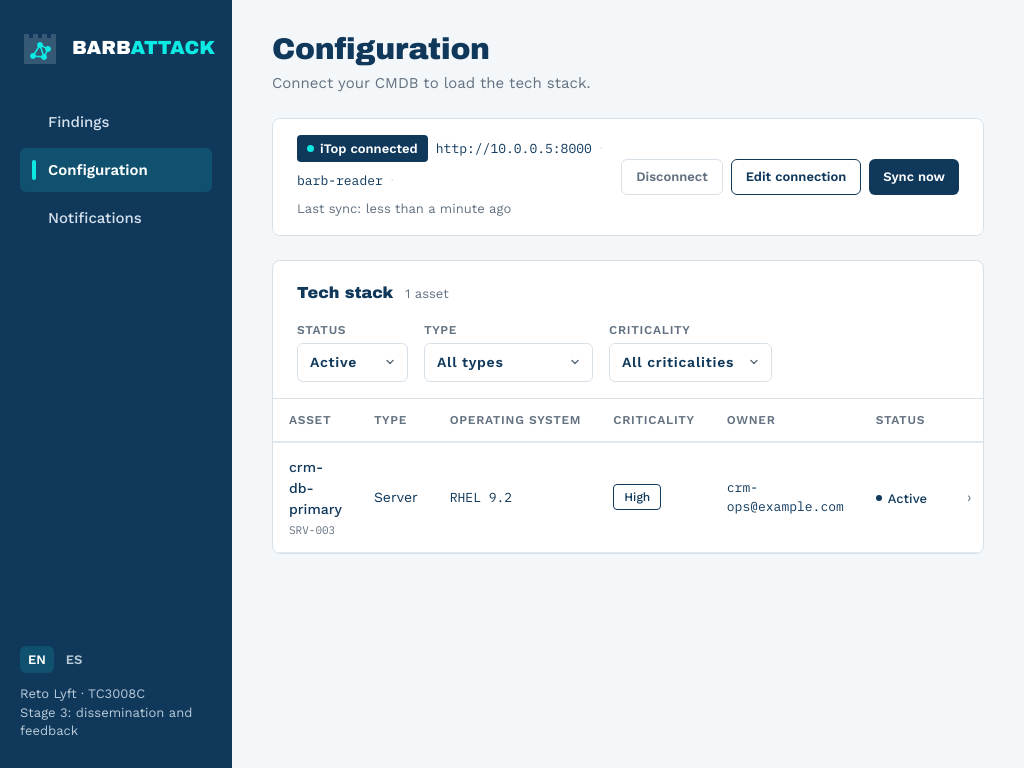
Test: Tech stack › a slow response for filters already replaced is never shown
Expected: the text "iTop connected" is shown, [297,134,428,162]
Expected: the row "crm-db-primary" is shown, [273,442,983,552]
Select "Server" in the dropdown labelled "Type" at (508, 362), box [424,342,593,382]
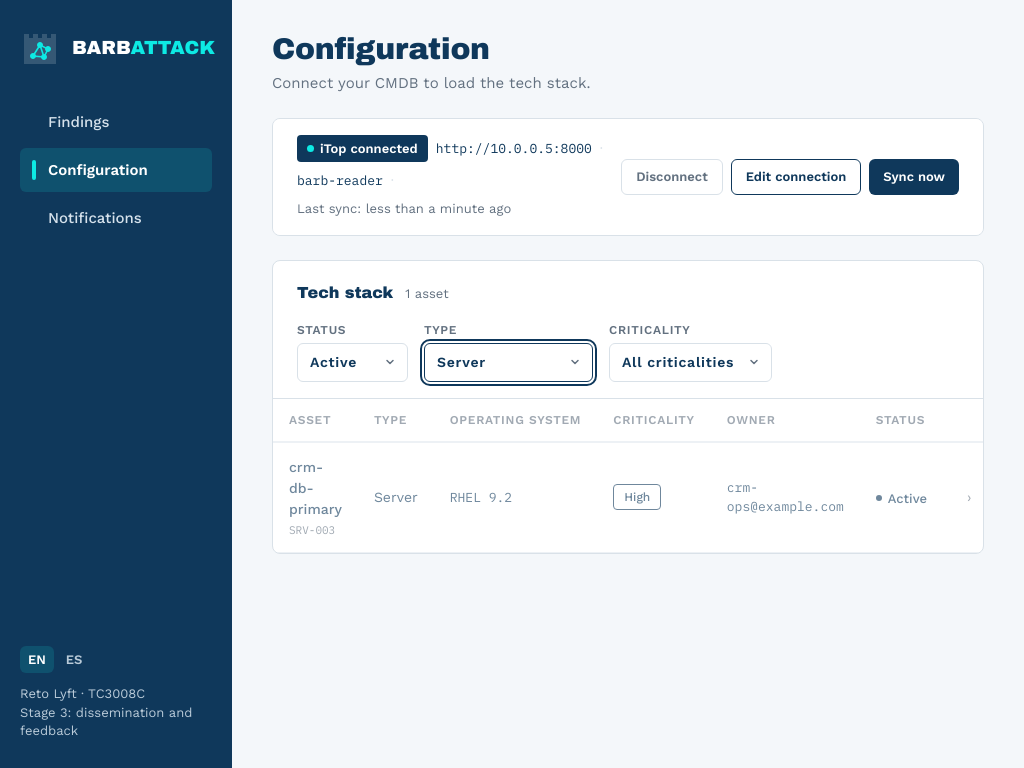
Select "Virtual Machine" in the dropdown labelled "Type" at (508, 362), box [424,342,593,382]
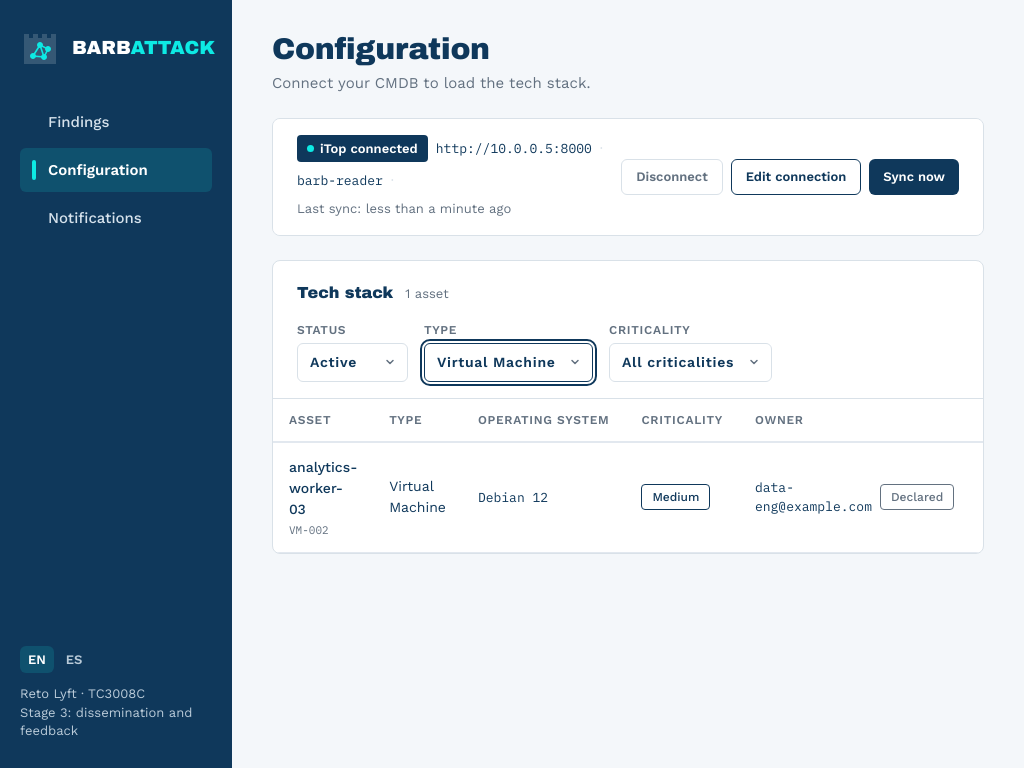
Expected: the row "analytics-worker-03" is shown, [273,442,983,552]
